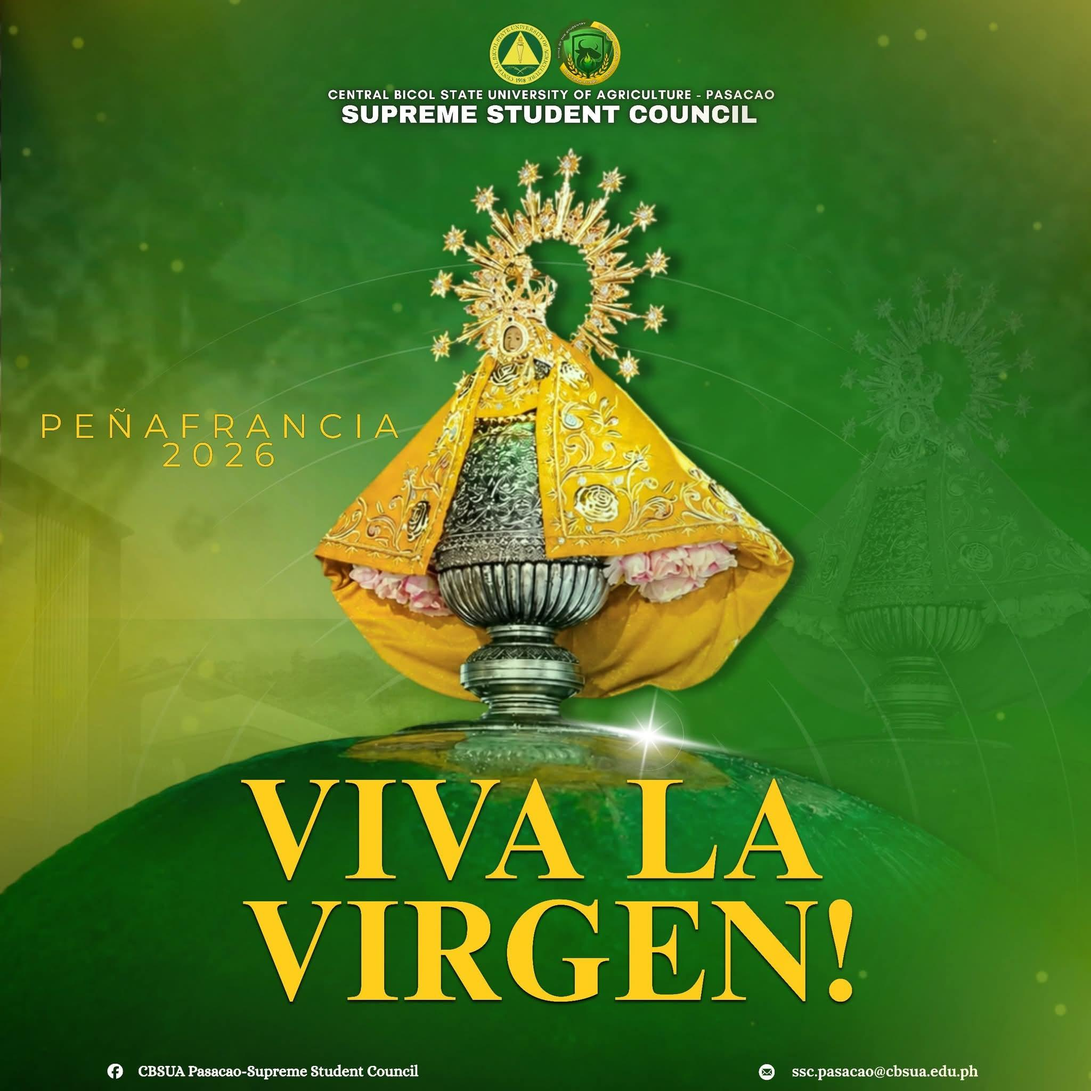embellishment: (0, 146, 1089, 1090), (614, 695, 682, 772), (756, 1061, 778, 1081), (105, 1061, 126, 1081)
logo: (554, 17, 623, 89), (487, 20, 554, 88)
text: (226, 763, 864, 1009), (39, 403, 403, 472), (325, 86, 776, 128), (135, 1061, 424, 1081), (788, 1062, 983, 1081)
